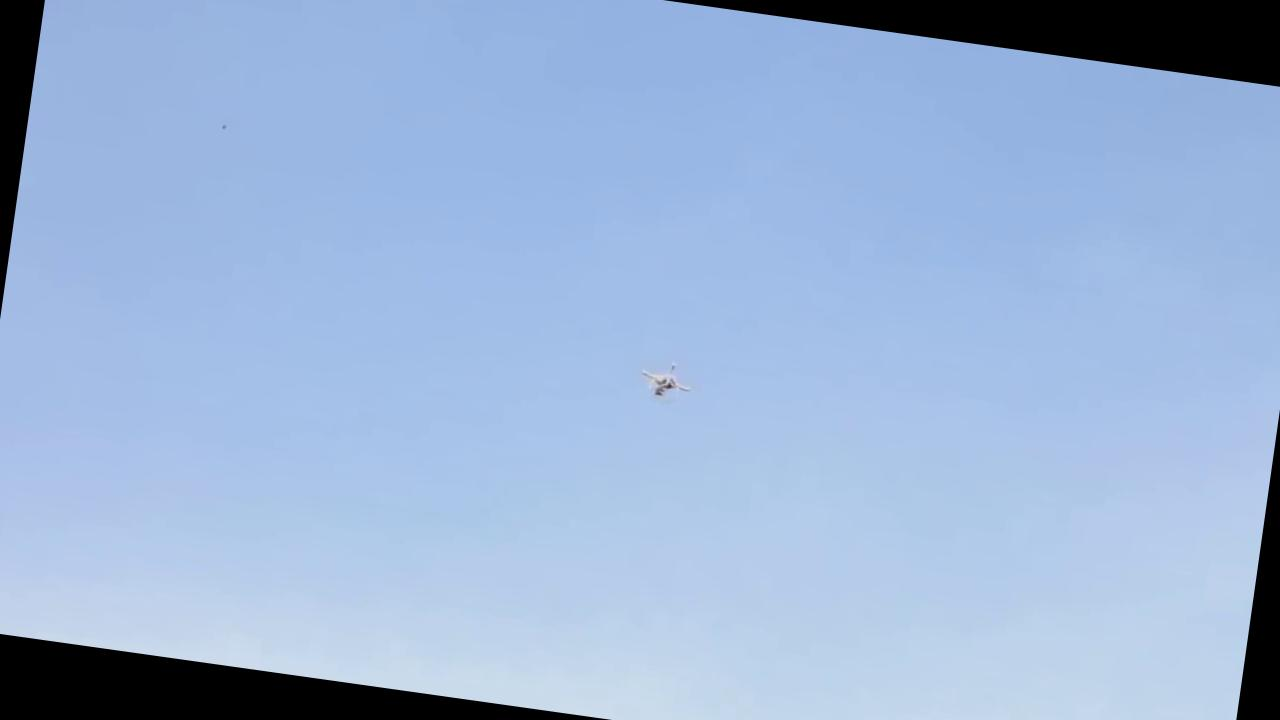drone: (630, 354, 694, 404)
